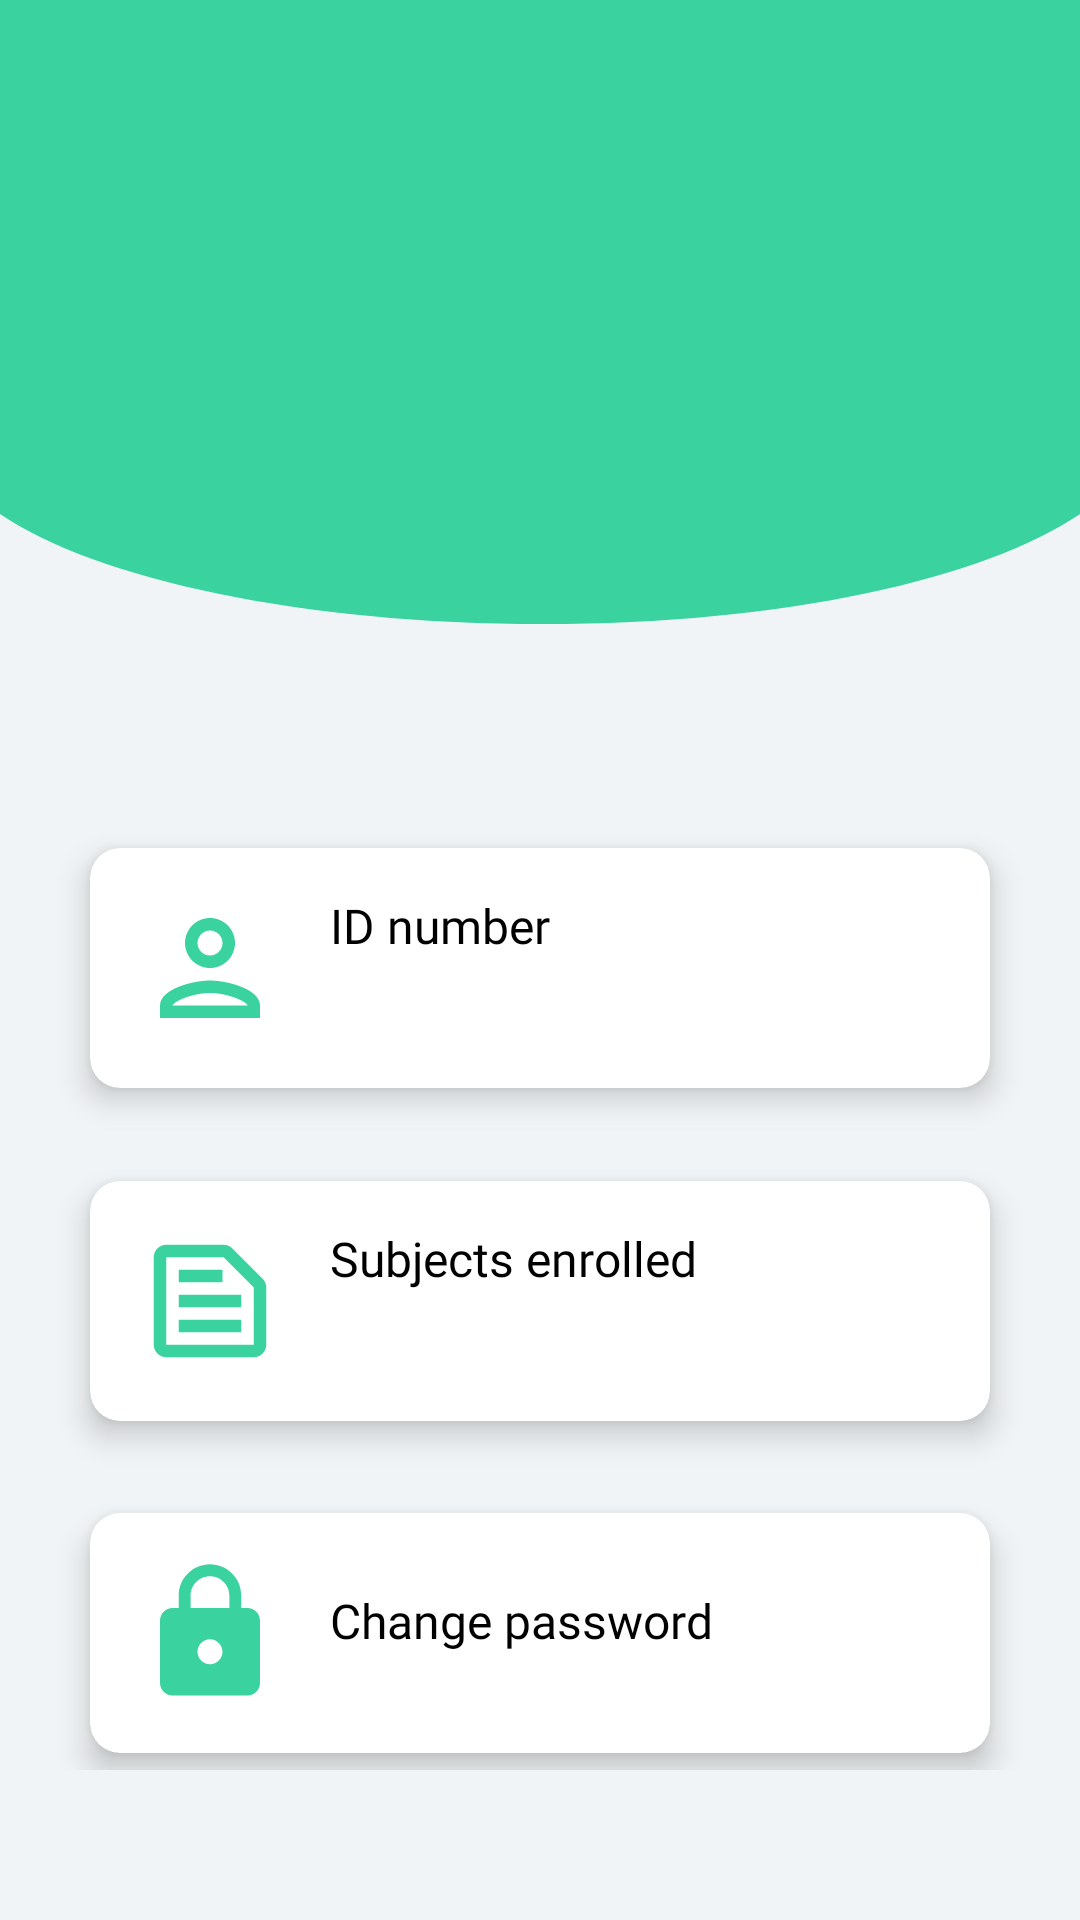

Locate icon controls on the screen. Image size 1080w x 1920h, boxes as bbox=[x1, y1, x2, y2].
lock: bbox=[160, 1564, 260, 1696]
person: bbox=[160, 918, 260, 1018]
